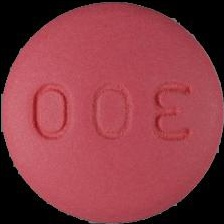68788-6382: (0, 0, 224, 224)
